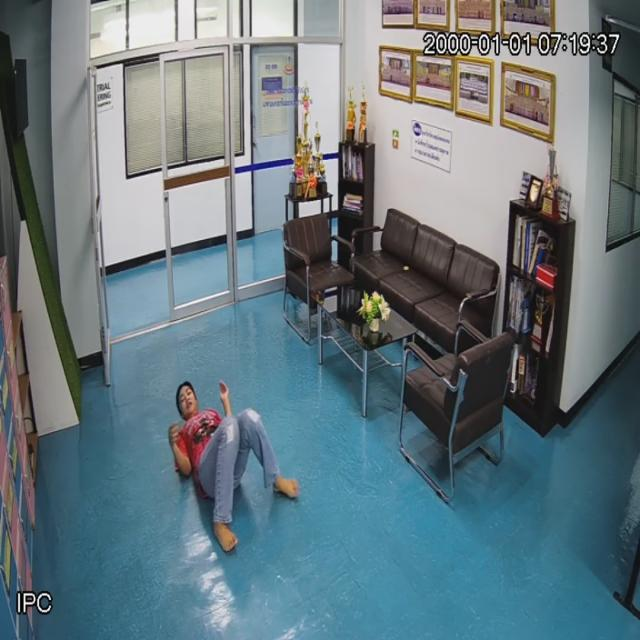fall: (168, 381, 295, 553)
